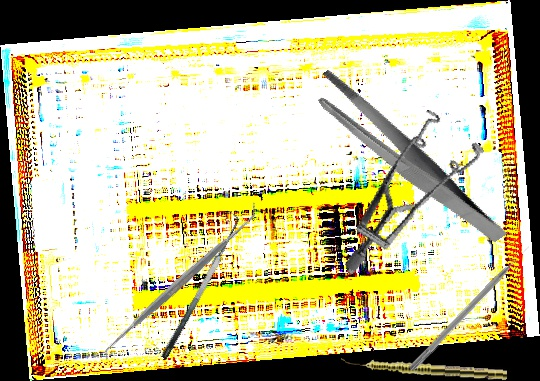Dressing Forceps: (307, 38, 507, 280)
Handpiece: (340, 356, 508, 381)
Pusher: (407, 243, 534, 374)
Spatula Surgical: (93, 200, 269, 363), (148, 210, 248, 361)
Speculum: (306, 97, 508, 275)
